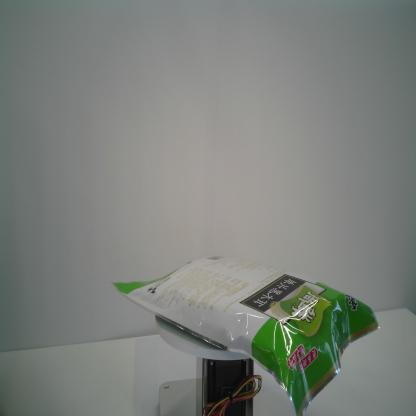Dried Food: (109, 250, 382, 416)
